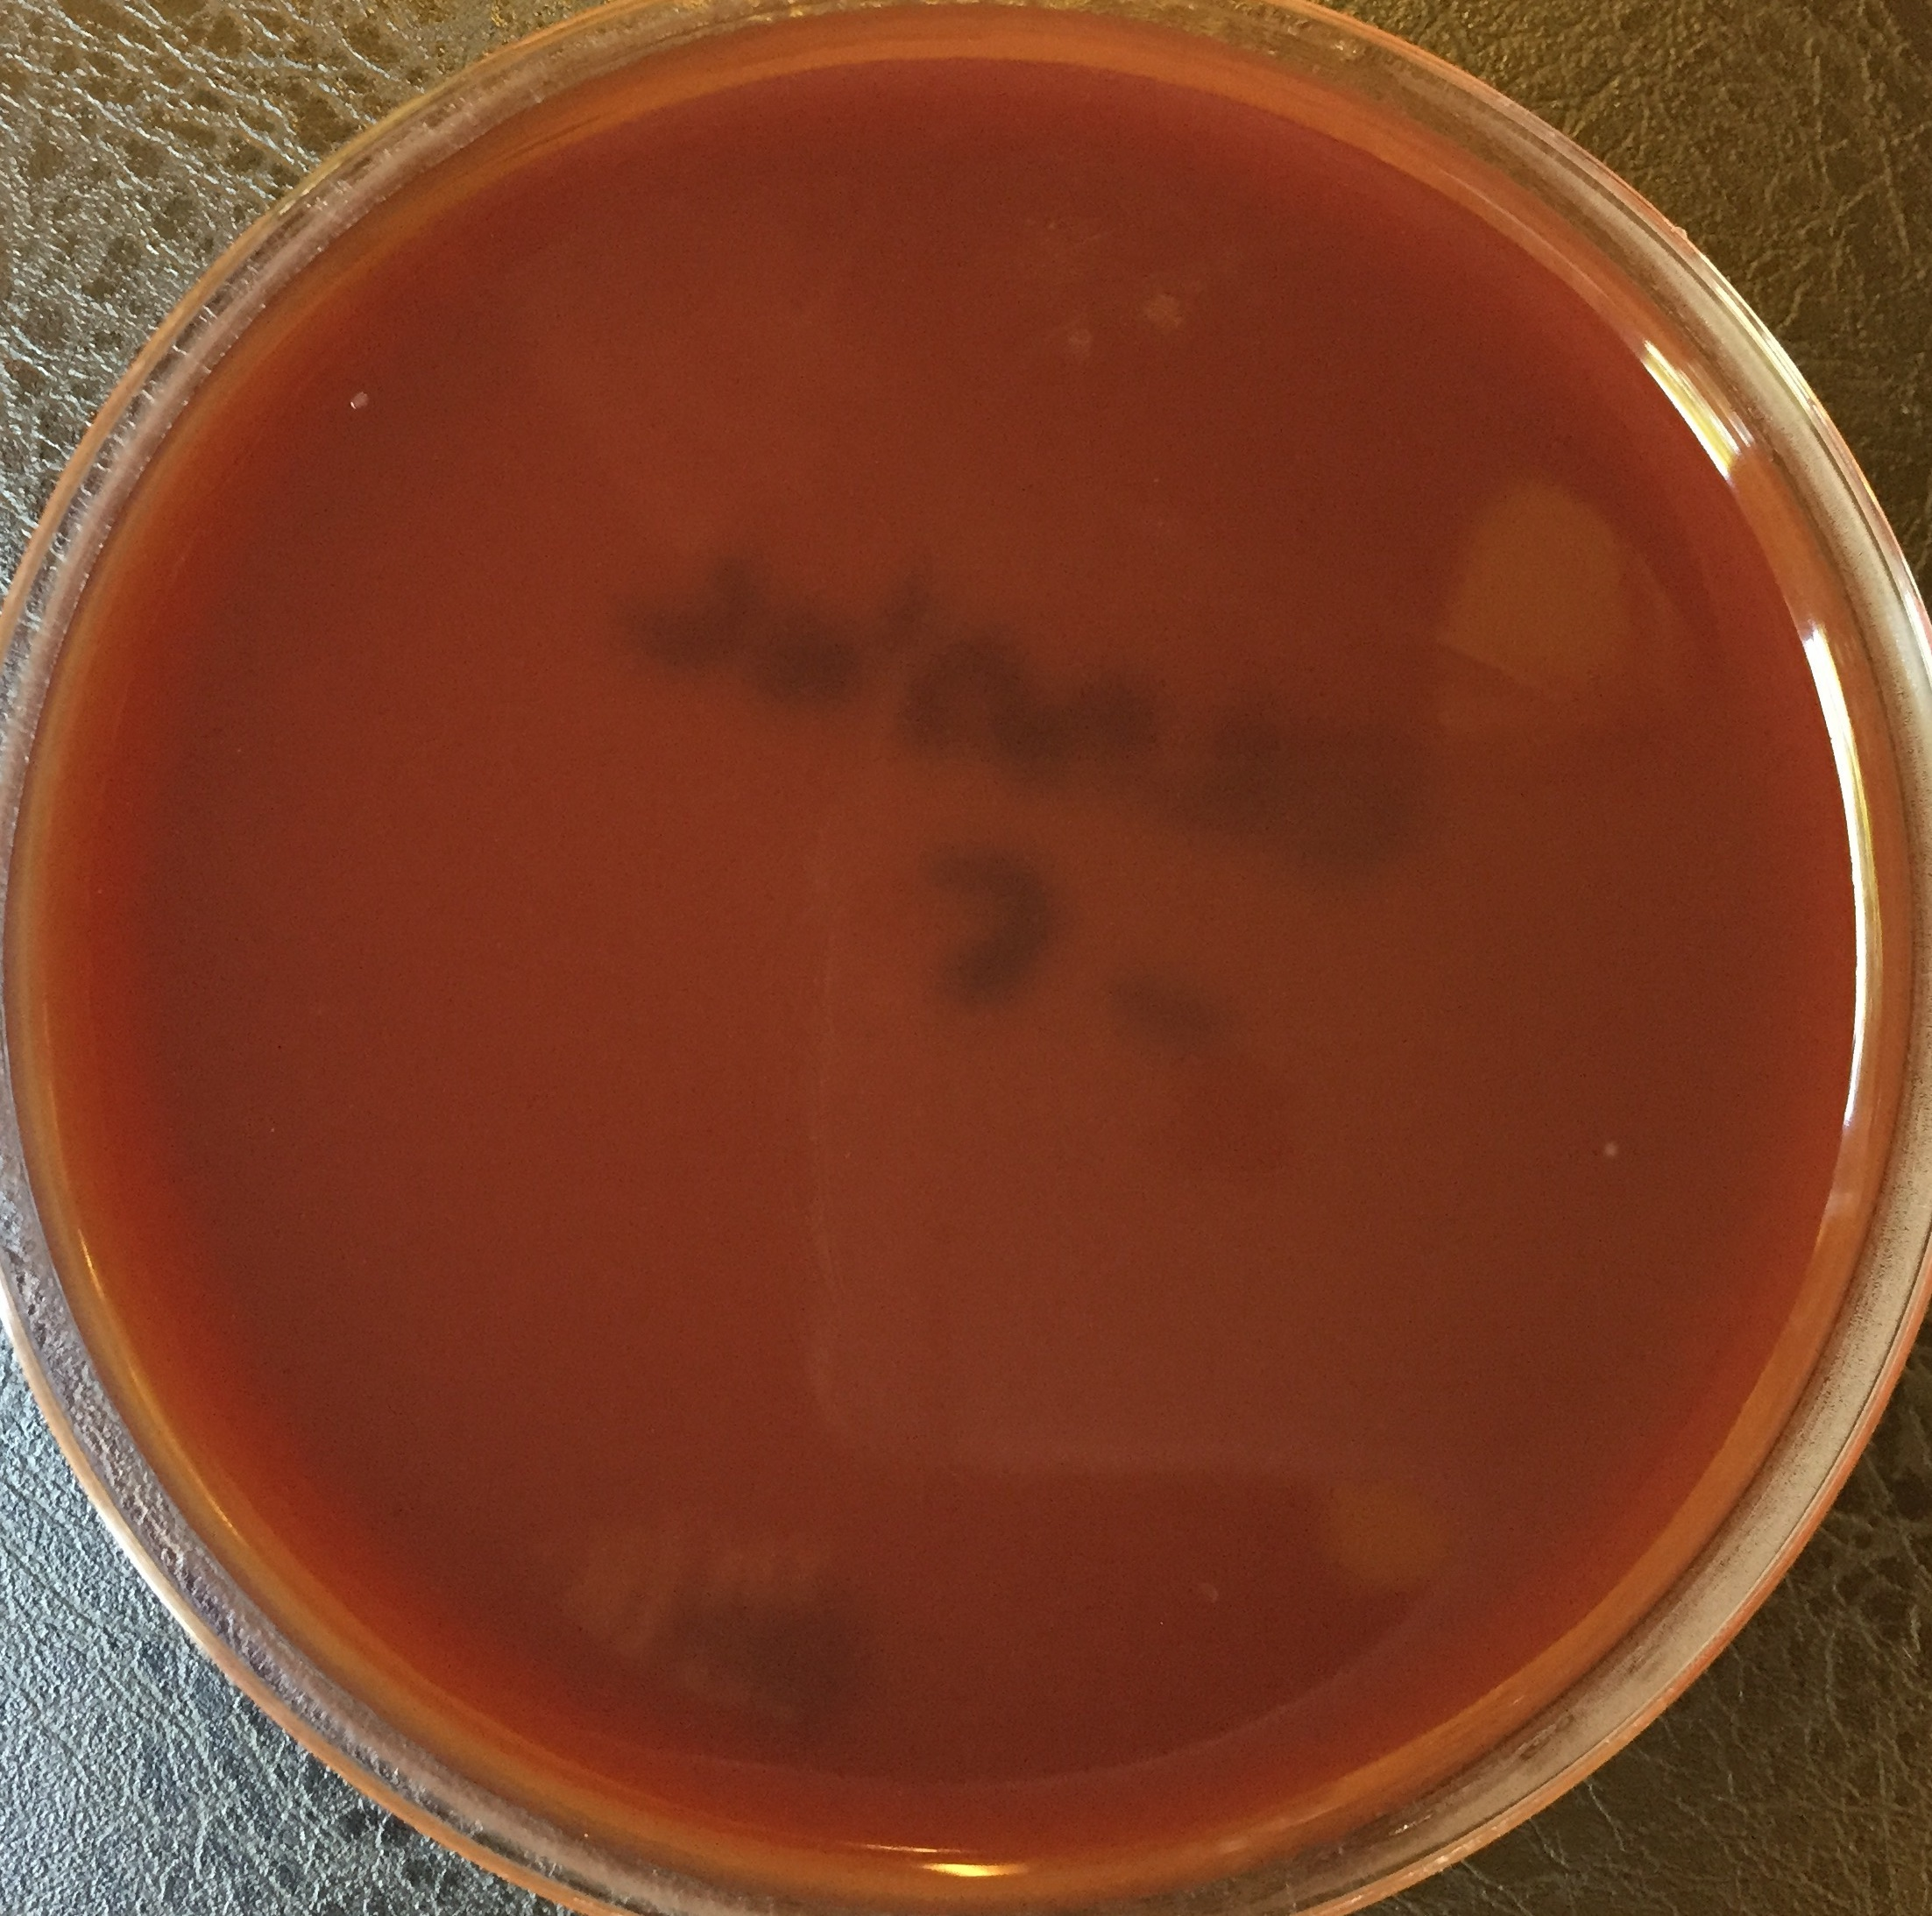sp10: (1597, 1137, 1627, 1165), (344, 388, 372, 416)
